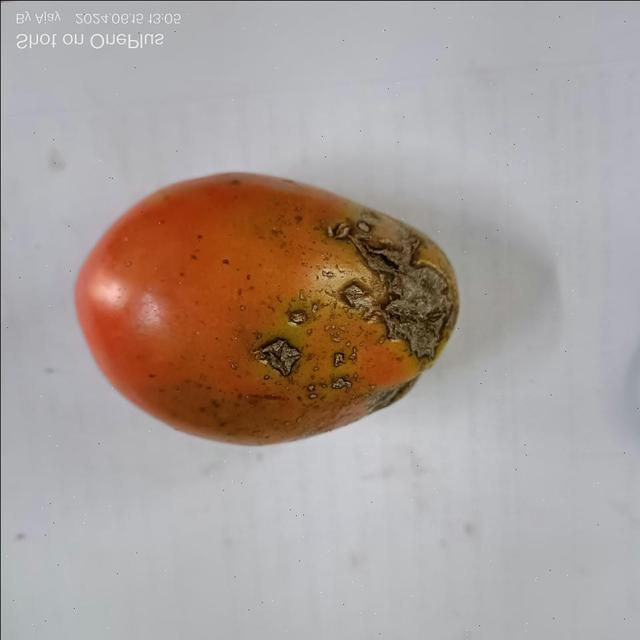Bacterial Spot Fruit: (8, 4, 296, 265)
